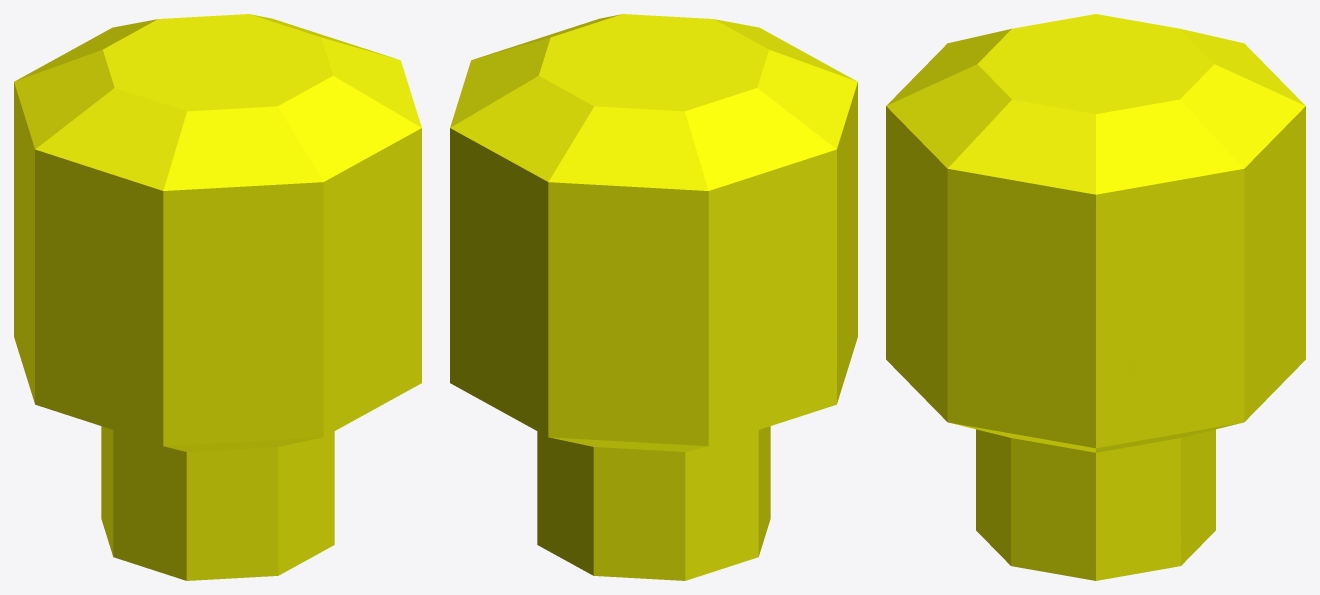
File: lightBulb.fbx
3 views of the same model, side by side, from view 1: azimuth 30°, elevation 25°; view 2: azimuth 150°, elevation 25°; view 3: azimuth 270°, elevation 25° (orthographic).
Parts seen in each view (by area): view 1: lightlbulb; view 2: lightlbulb; view 3: lightlbulb.
Part boxes in pixels (left/top/right/bottom): lightlbulb: left=14, top=14, right=421, bottom=580; lightlbulb: left=450, top=14, right=857, bottom=580; lightlbulb: left=886, top=14, right=1305, bottom=580.
Size of the model in its own units: 9.96 by 12.2 by 9.96.
